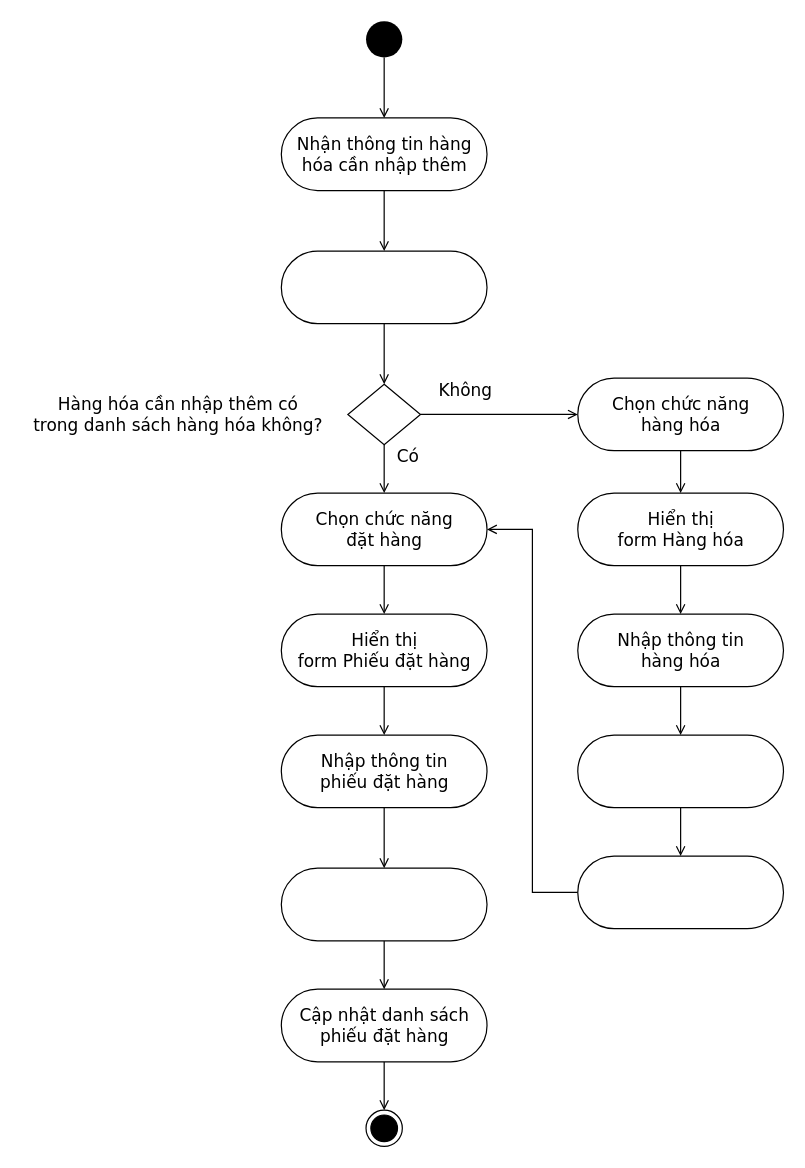
This 805x1168 diagram has some shape labels left out. The shapes that lost their labels are listed below. From the top down, each one's box as (x1, y1, x2, y2) in pixels, then its label:
(280, 250, 487, 324): Tìm kiếm thông tin hàng hóa
(577, 734, 783, 808): Xác nhận thêm hàng hóa
(280, 867, 487, 941): Xác nhận thêm phiếu đặt hàng
(577, 855, 783, 929): Cập nhật danh sách hàng hóa
